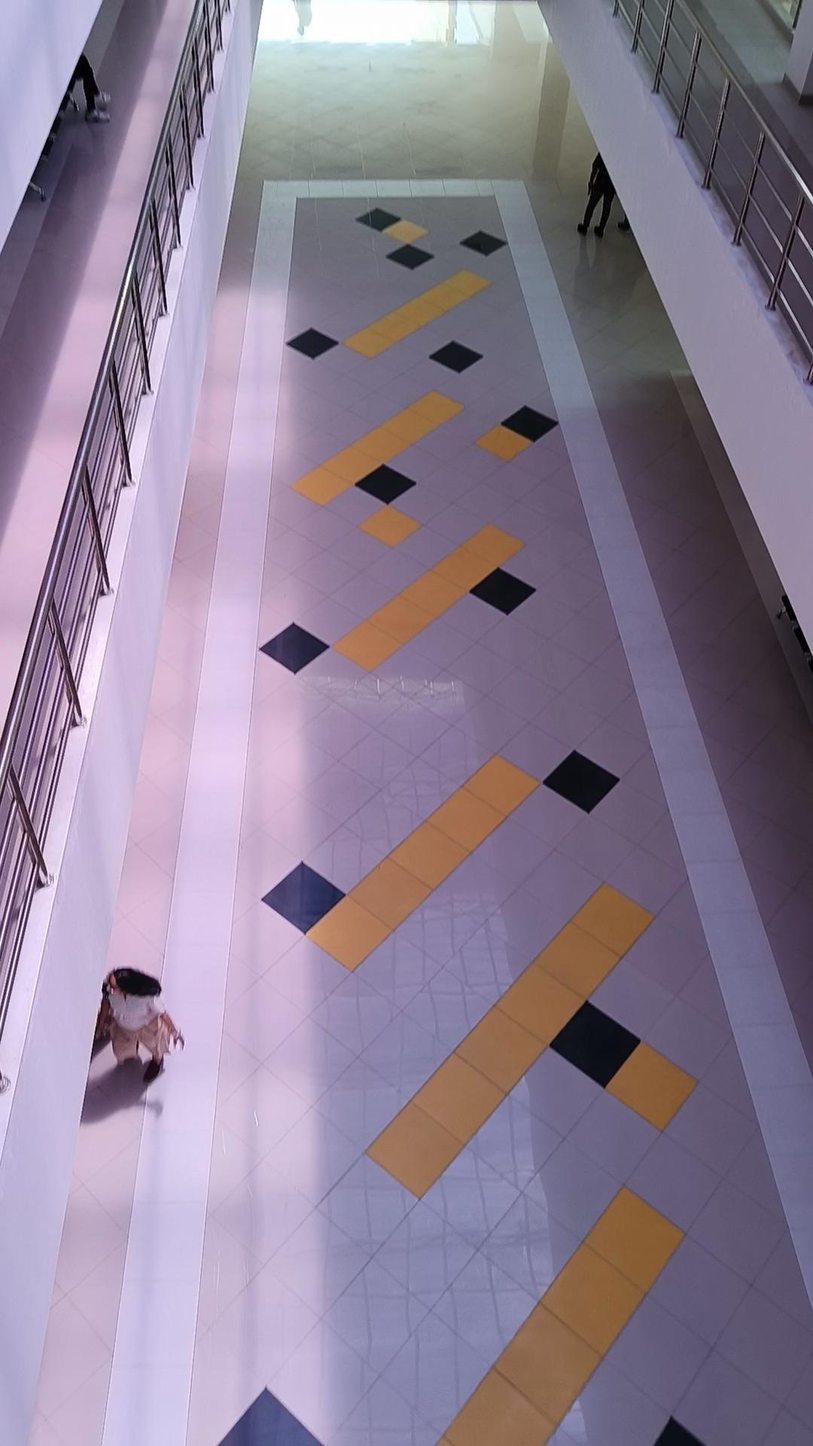person: (97, 967, 178, 1108), (575, 143, 629, 247)
